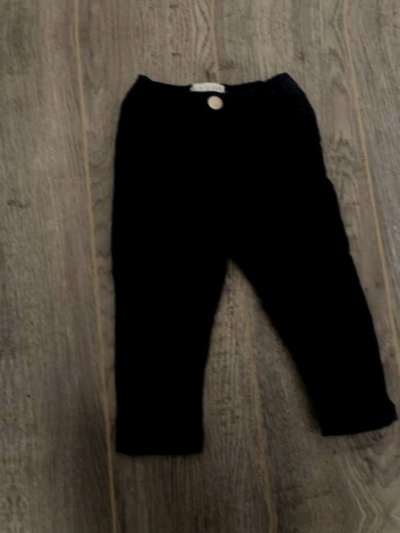Pants: (56, 42, 400, 481), (34, 0, 395, 12)
